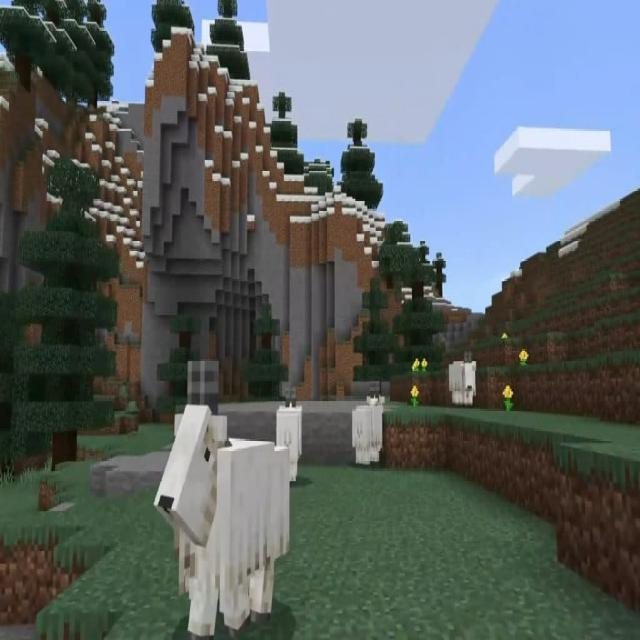Goat: (152, 353, 292, 640), (346, 379, 391, 473), (444, 351, 483, 412)
